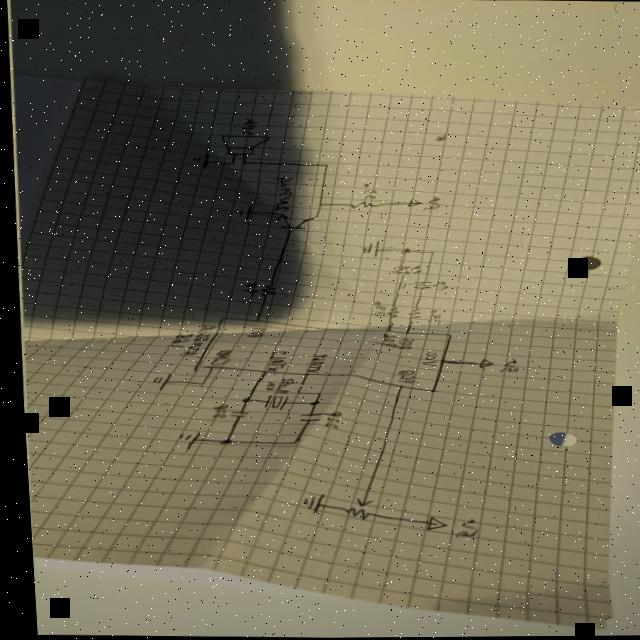capacitor: (292, 415, 318, 423), (225, 410, 244, 418)
diode: (409, 279, 445, 293), (385, 265, 419, 276)
ground: (294, 493, 319, 515), (147, 373, 168, 393), (173, 432, 196, 450), (355, 240, 378, 257), (188, 152, 210, 169), (229, 206, 251, 222)
junction: (214, 439, 228, 445), (236, 398, 246, 404), (398, 248, 408, 254), (305, 401, 315, 407), (238, 161, 246, 166), (227, 162, 235, 167), (320, 164, 328, 168), (425, 252, 433, 256), (310, 392, 318, 396), (286, 440, 294, 444), (314, 204, 321, 208), (194, 382, 201, 386)
resistor: (337, 498, 368, 521), (254, 284, 273, 297), (346, 201, 372, 210), (382, 306, 397, 319), (402, 308, 417, 320)
source: (419, 517, 442, 532), (472, 359, 489, 369), (404, 198, 418, 208)
text: (175, 324, 213, 356), (268, 175, 294, 213), (259, 349, 284, 372), (260, 377, 290, 395), (448, 519, 473, 540), (299, 354, 322, 374), (163, 333, 191, 349), (205, 350, 228, 366), (316, 412, 337, 429), (493, 358, 515, 374), (238, 118, 257, 135), (204, 404, 225, 419), (371, 335, 393, 349), (391, 370, 412, 384), (420, 197, 438, 212), (359, 184, 375, 200), (417, 353, 434, 367), (238, 282, 257, 294), (392, 338, 411, 350), (242, 328, 262, 338), (369, 302, 382, 317), (424, 311, 437, 325)
transistor: (273, 215, 315, 231)
